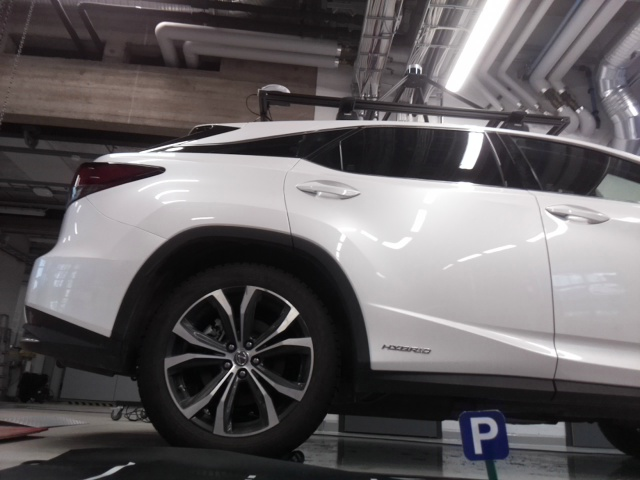Parking: (457, 411, 507, 460)
